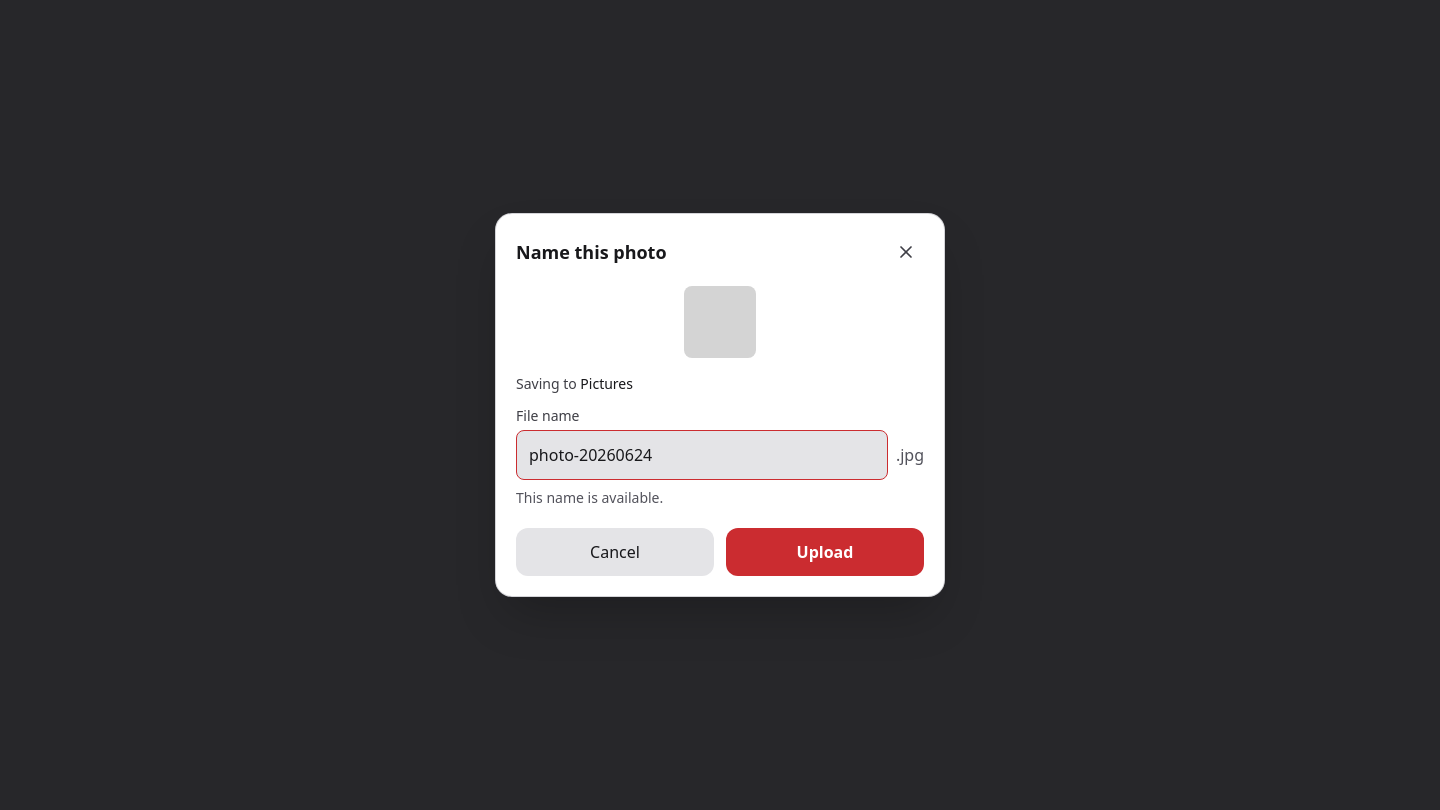
Scenario: NameImageModal › rejects illegal filename characters
Replace the text in the field labelled "File name" with "bad/name" at (702, 455), box [516,430,888,480]
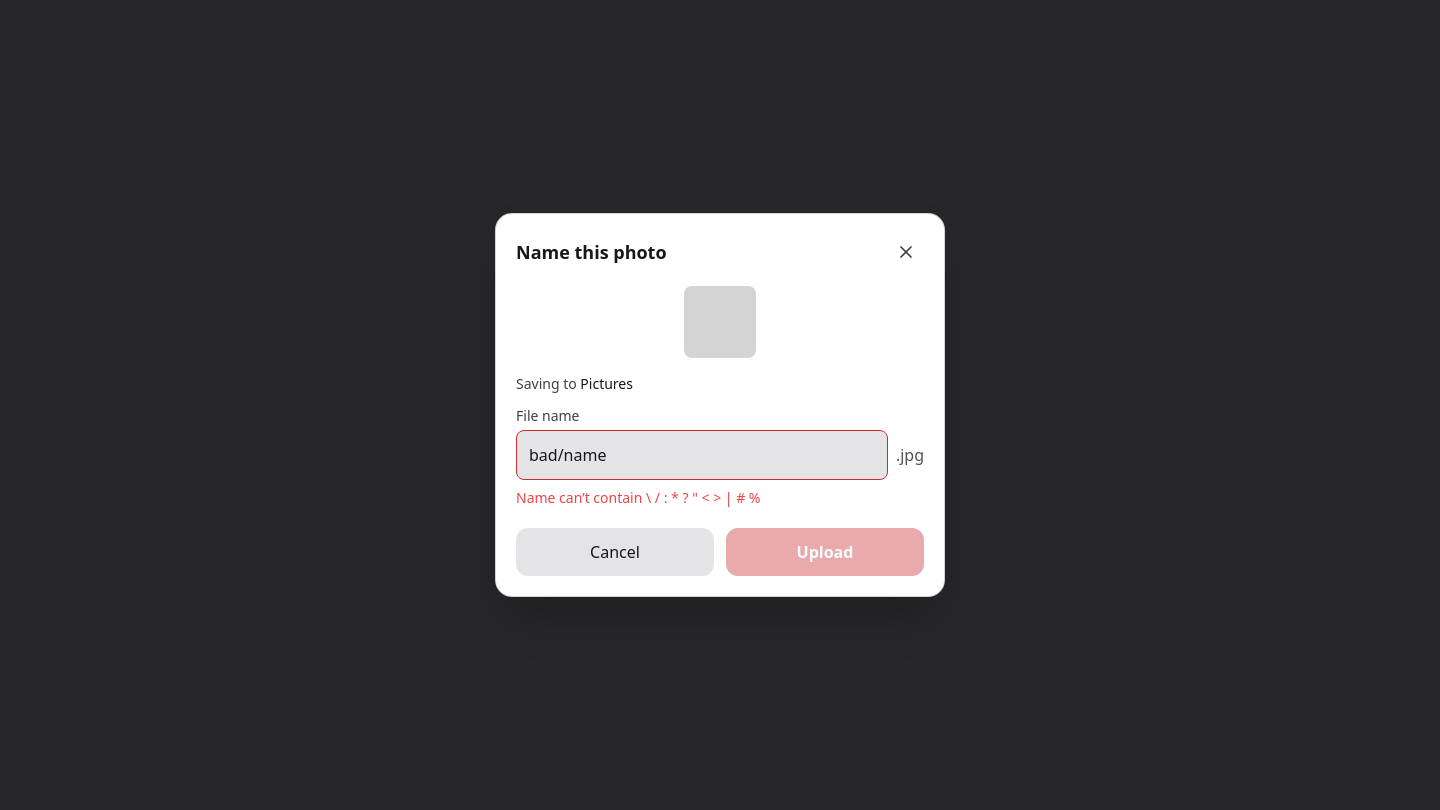
Expected: the button "Upload" is disabled, [726,528,924,576]
Expected: the text "Name can’t contain \\ / : * ? \" < > | # %" is shown, [516,488,760,507]
